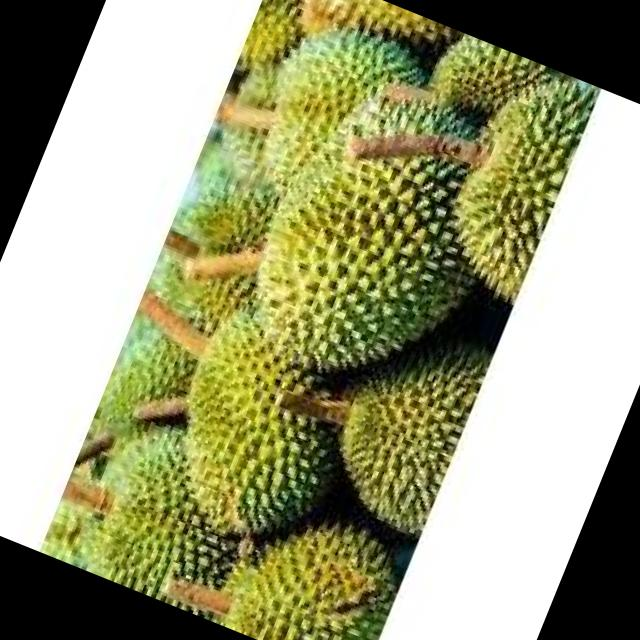fruit: (160, 0, 568, 461), (193, 462, 416, 640), (265, 0, 481, 97)
